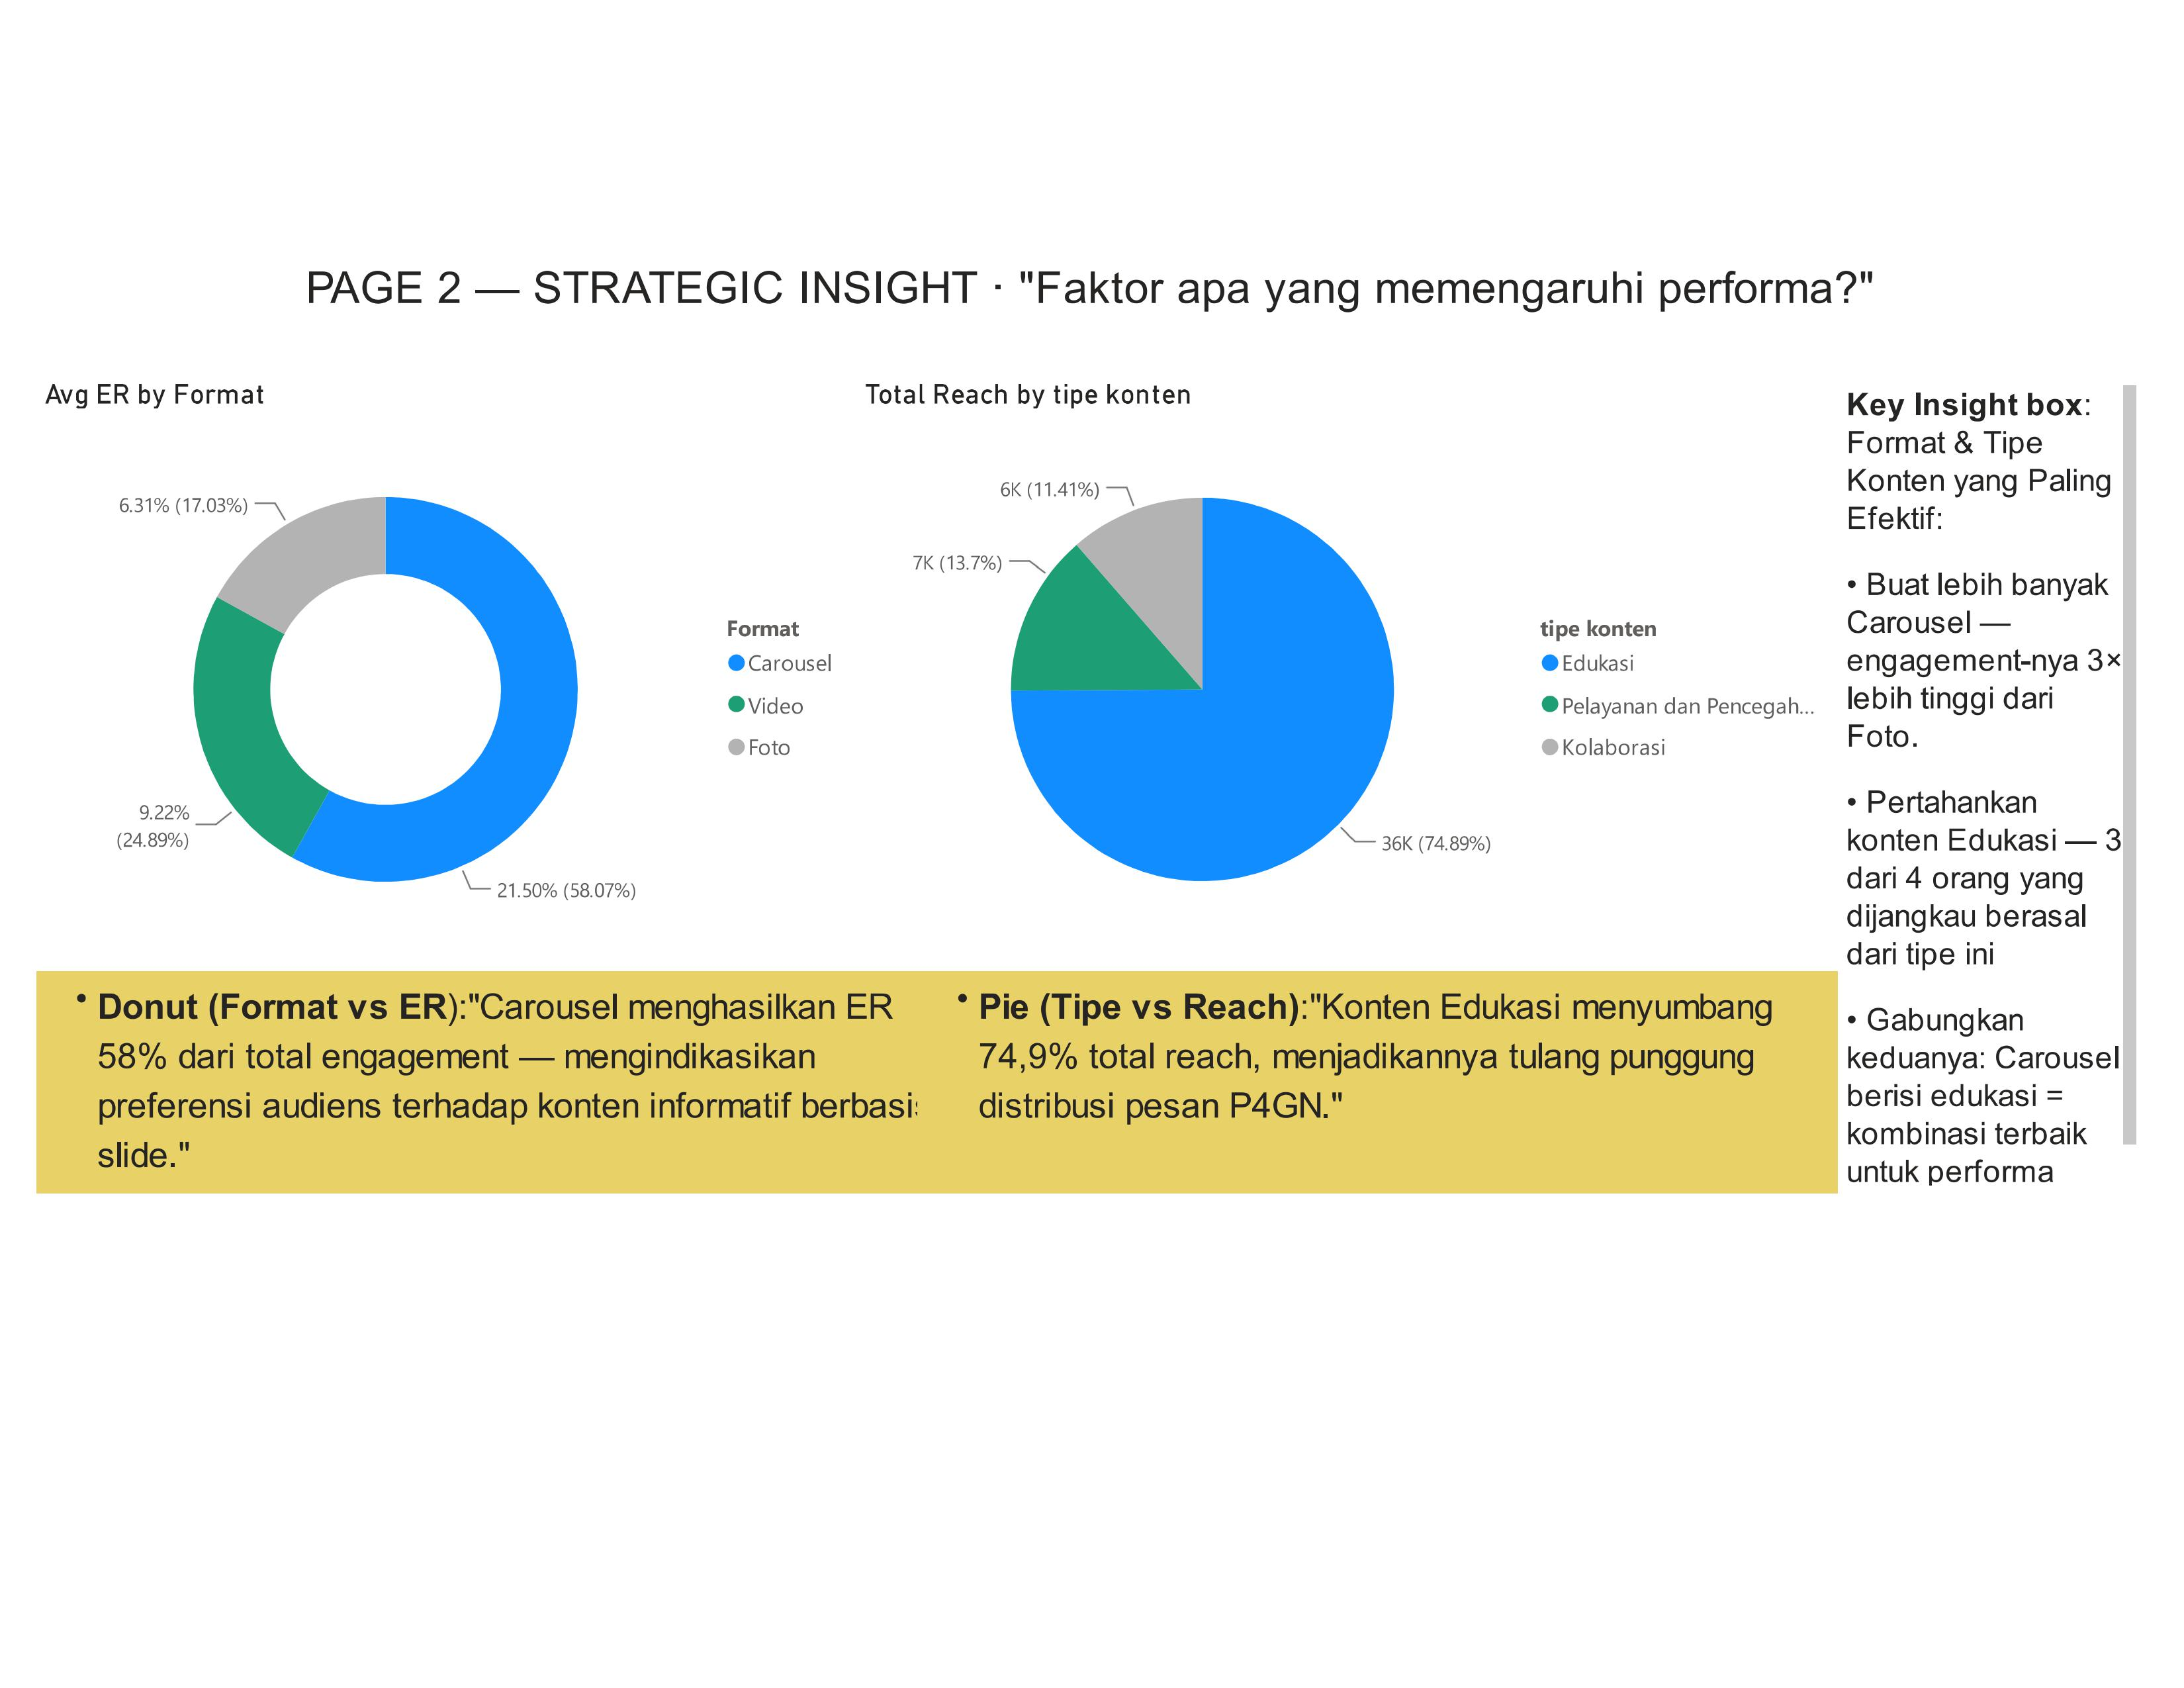

Layout of this report page (visuals, bound fields, positions):
{"tool":"powerbi","page":{"name":"Page 2","canvas":[1280,720],"ordinal":1},"visuals":[{"type":"pieChart","fields":{"Category":["dim_content.tipe konten"],"Y":["fact_performance.Total Reach"]},"box":[498.3,76.2,595.8,359.6],"z":0},{"type":"donutChart","fields":{"Category":["dim_content.Format"],"Y":["fact_analysis.Avg ER"]},"box":[0,76.2,498.3,359.6],"z":1000},{"type":"textbox","box":[0,435.8,557.7,135.6],"z":2000},{"type":"textbox","box":[534.9,435.8,559.2,135.6],"z":3000},{"type":"textbox","box":[1094.1,76.2,185.9,495.2],"z":4000},{"type":"textbox","box":[0,0,1280,76.2],"z":5000}]}

Visuals, with their boxes on the page's 1280x720 design canvas (x1, y1, x2, y2). These are canvas units, not pixel positions in the 2184x1688 screenshot, which may show the page scaled, cropped or inside an application window:
pieChart - dim_content.tipe konten x fact_performance.Total Reach: x1=498 y1=76 x2=1094 y2=436
donutChart - dim_content.Format x fact_analysis.Avg ER: x1=0 y1=76 x2=498 y2=436
textbox: x1=0 y1=436 x2=558 y2=571
textbox: x1=535 y1=436 x2=1094 y2=571
textbox: x1=1094 y1=76 x2=1280 y2=571
textbox: x1=0 y1=0 x2=1280 y2=76
